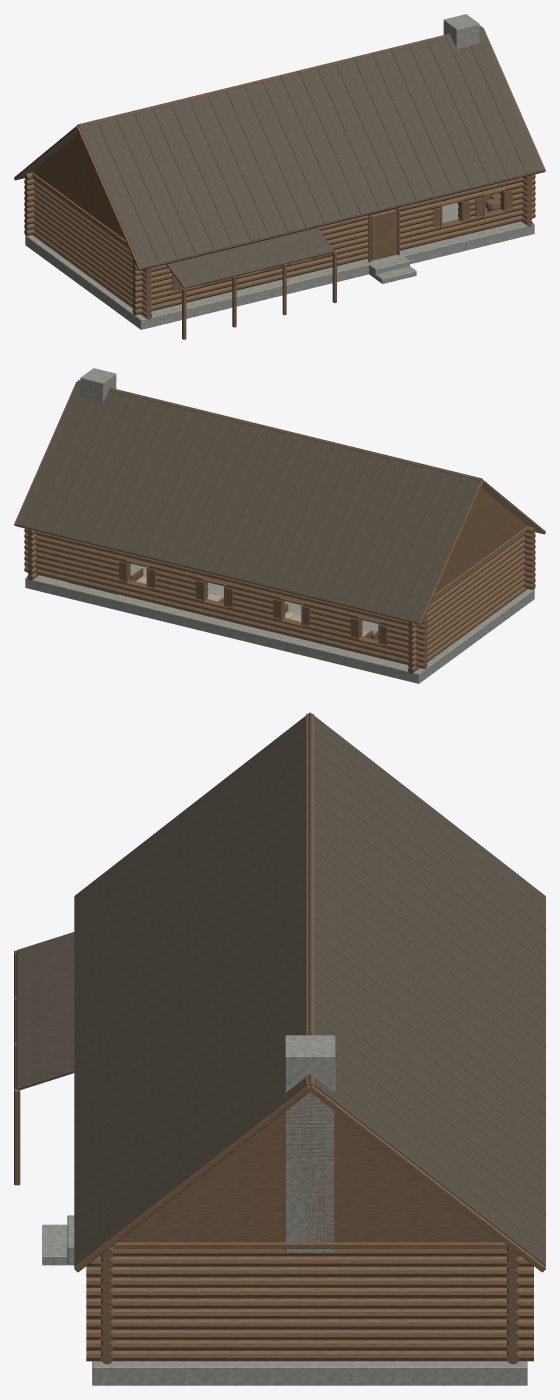
The picture shows the model from 3 angles, top to bottom: view 1: azimuth 30°, elevation 25°; view 2: azimuth 150°, elevation 25°; view 3: azimuth 270°, elevation 25°; orthographic projection. The views are drawn at different scales.
Parts seen in each view (by area): view 1: K01_roof_right, K01_wall_right, K01_foundation, K01_wall_front, K01_canopy, K01_gable_front, K01_entry_leaf0, K01_canopy_post_7.0_-9.0, K01_chimney, K01_ridge, K01_verge_-1_-1, K01_wall_left (+2 smaller); view 2: K01_roof_left, K01_wall_left, K01_foundation, K01_wall_front, K01_gable_front, K01_chimney, K01_verge_-1_-1, K01_ridge, K01_wall_right, K01_roof_right, K01_wall_rear; view 3: K01_roof_right, K01_roof_left, K01_wall_rear, K01_gable_rear, K01_foundation, K01_chimney, K01_canopy, K01_verge_1_-1, K01_ridge, K01_wall_left, K01_wall_right, K01_canopy_post_7.0_-9.0.
Boxes of the visible parts, box(x1,y1,x2,y2) form: K01_roof_right: box(78, 26, 544, 270); K01_wall_right: box(132, 174, 535, 315); K01_foundation: box(25, 202, 534, 329); K01_wall_front: box(31, 172, 152, 319); K01_canopy: box(166, 227, 334, 288); K01_gable_front: box(32, 134, 124, 239); K01_entry_leaf0: box(371, 210, 397, 260); K01_canopy_post_7.0_-9.0: box(182, 251, 336, 339); K01_chimney: box(443, 14, 479, 48); K01_ridge: box(77, 27, 482, 126); K01_verge_-1_-1: box(14, 126, 141, 270); K01_wall_left: box(24, 172, 35, 235); K01_roof_left: box(15, 380, 481, 624); K01_wall_left: box(24, 528, 427, 669); K01_foundation: box(25, 563, 534, 683); K01_wall_front: box(407, 526, 528, 673); K01_gable_front: box(435, 488, 527, 593); K01_chimney: box(80, 368, 116, 402); K01_verge_-1_-1: box(418, 480, 545, 624); K01_ridge: box(77, 381, 482, 480); K01_wall_right: box(524, 526, 535, 589); K01_roof_right: box(78, 380, 541, 533); K01_wall_rear: box(27, 529, 38, 580); K01_roof_right: box(74, 712, 310, 1266); K01_roof_left: box(309, 713, 545, 1266); K01_wall_rear: box(86, 1242, 533, 1361); K01_gable_rear: box(117, 1092, 502, 1242); K01_foundation: box(42, 1215, 527, 1385); K01_chimney: box(285, 1035, 335, 1252); K01_canopy: box(16, 932, 74, 1089); K01_verge_1_-1: box(74, 1085, 545, 1272); K01_ridge: box(306, 714, 314, 1086); K01_wall_left: box(507, 1246, 518, 1364); K01_wall_right: box(101, 1246, 112, 1364); K01_canopy_post_7.0_-9.0: box(14, 950, 20, 1185).
Bounding box in the file's own units: 21.05 × 8.6 × 12.71.
Materials: 5 (4 with a texture image).
